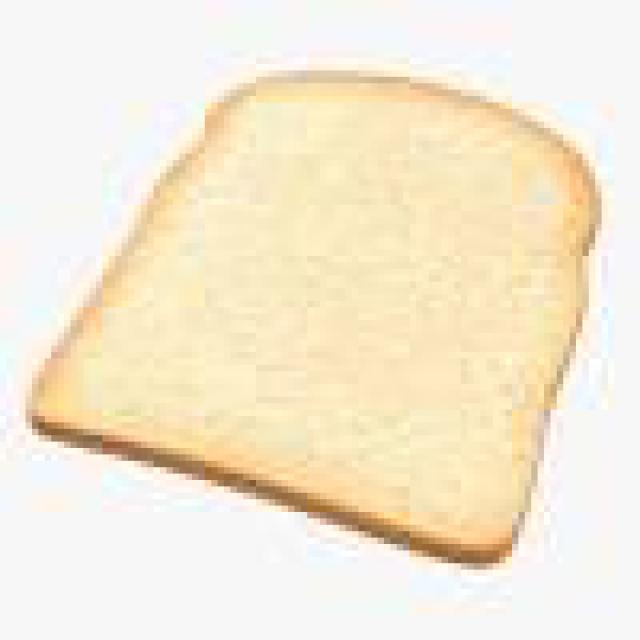Bread: (32, 74, 592, 560)
